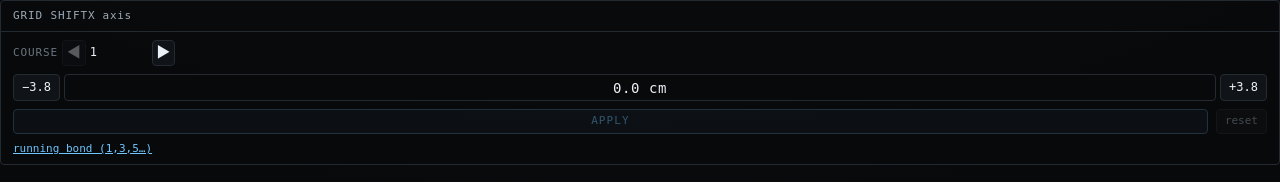
it: GridShift — incrementer, live preview, apply (horizontal grid) › increments the pending amount and previews it live, without committing
Click the button named "Increase by 3.8 cm" at (1244, 88), box [1220, 74, 1267, 101]
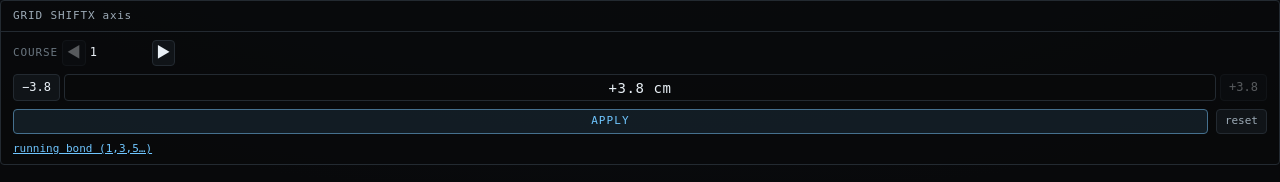
Check: the text "+3.8 cm" is shown, box [64, 74, 1216, 101]
